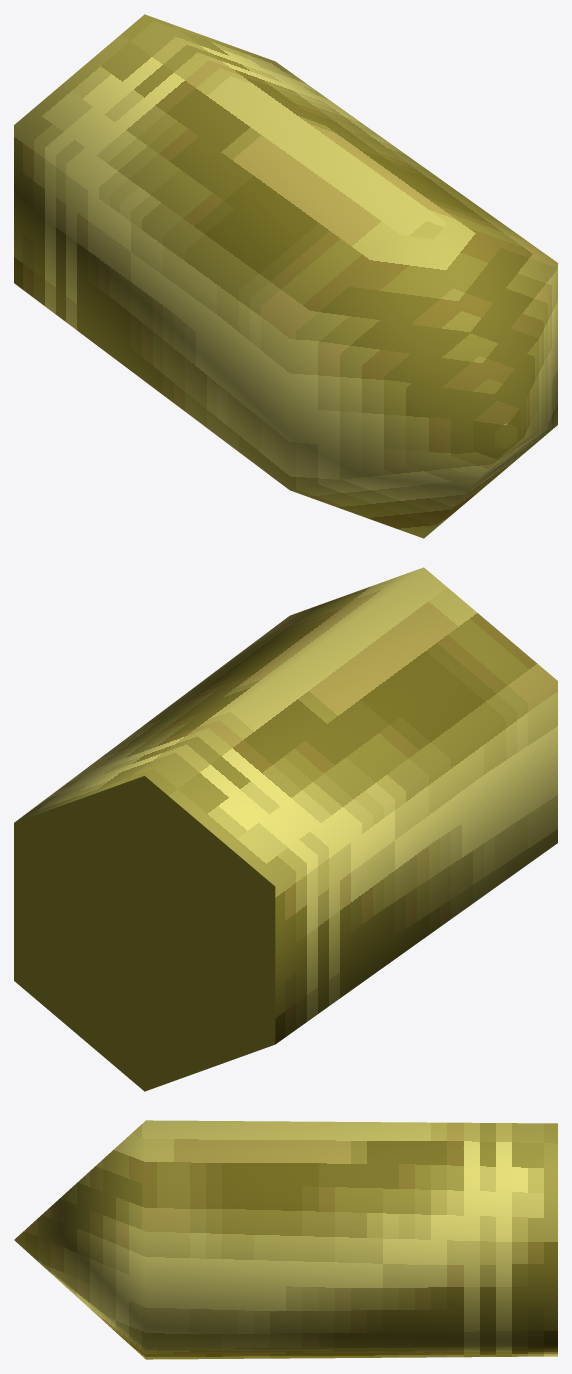
The model's file is shell.glb.
3 views of the same model, one above another, from view 1: azimuth 30°, elevation 25°; view 2: azimuth 150°, elevation 25°; view 3: azimuth 270°, elevation 25° (orthographic). The views are drawn at different scales.
Parts seen in each view (by area): view 1: Cylinder; view 2: Cylinder; view 3: Cylinder.
Boxes of the visible parts, <box> form: Cylinder: <box>14,14,557,538</box>; Cylinder: <box>14,567,557,1091</box>; Cylinder: <box>14,1120,557,1359</box>.
Bounding box in the file's own units: 0.2165 × 0.25 × 0.5155.
Materials: 1 (1 with a texture image).
